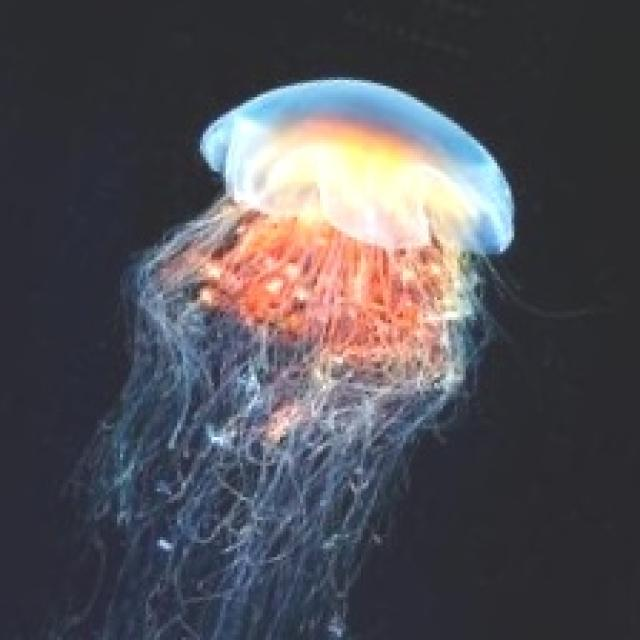Human: (40, 74, 523, 637)
